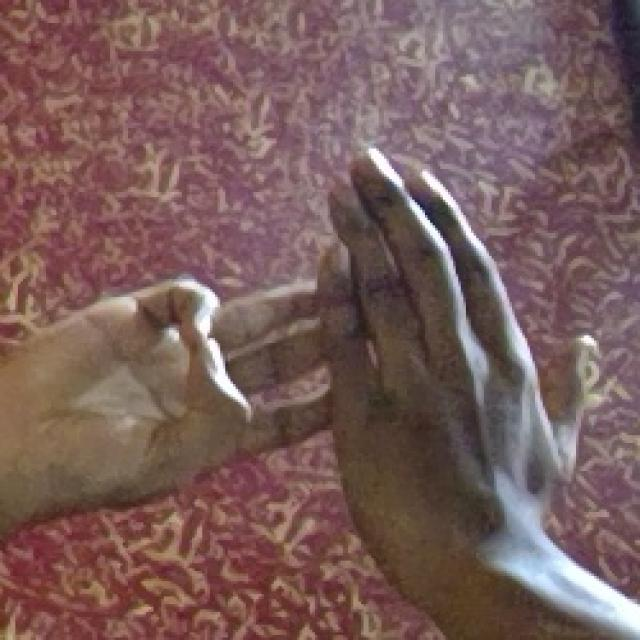Alphabet-M: (0, 137, 601, 579)
